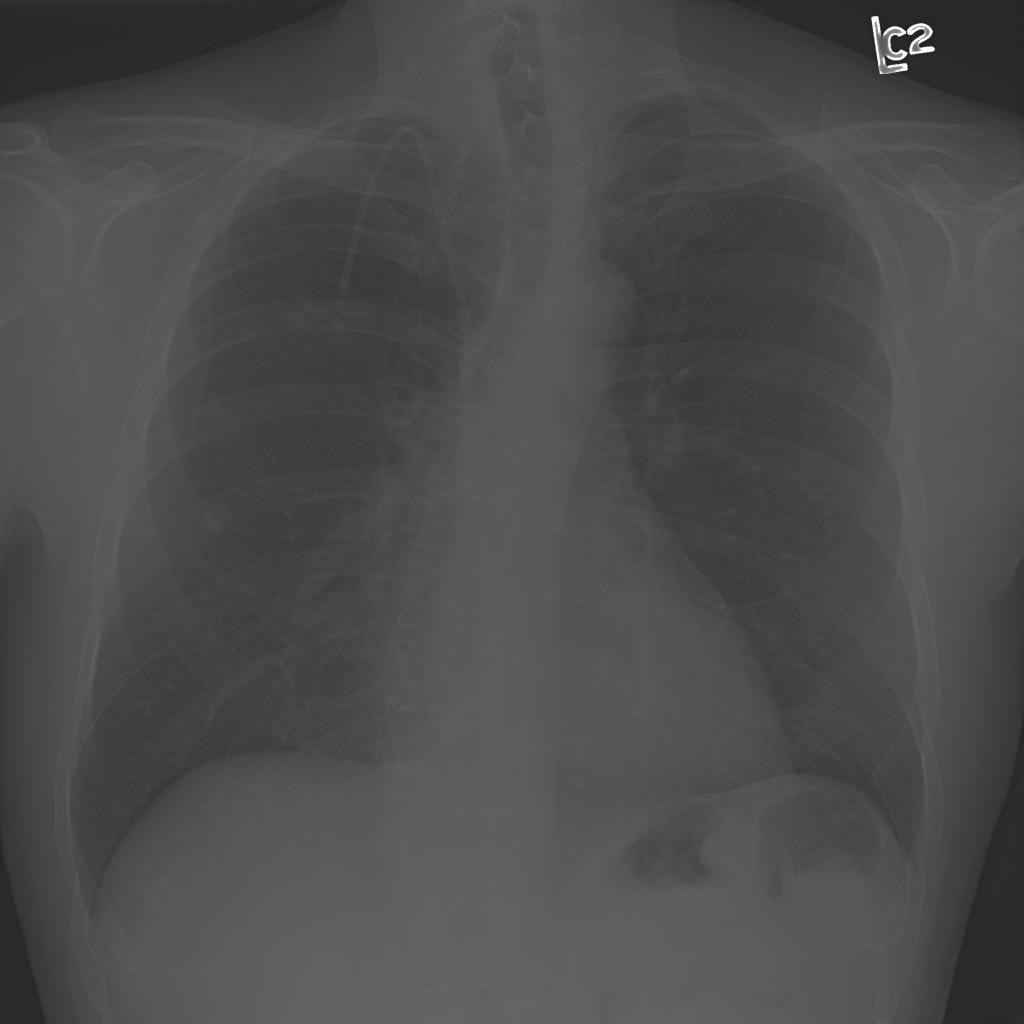Nodule: (94, 244, 127, 287)
